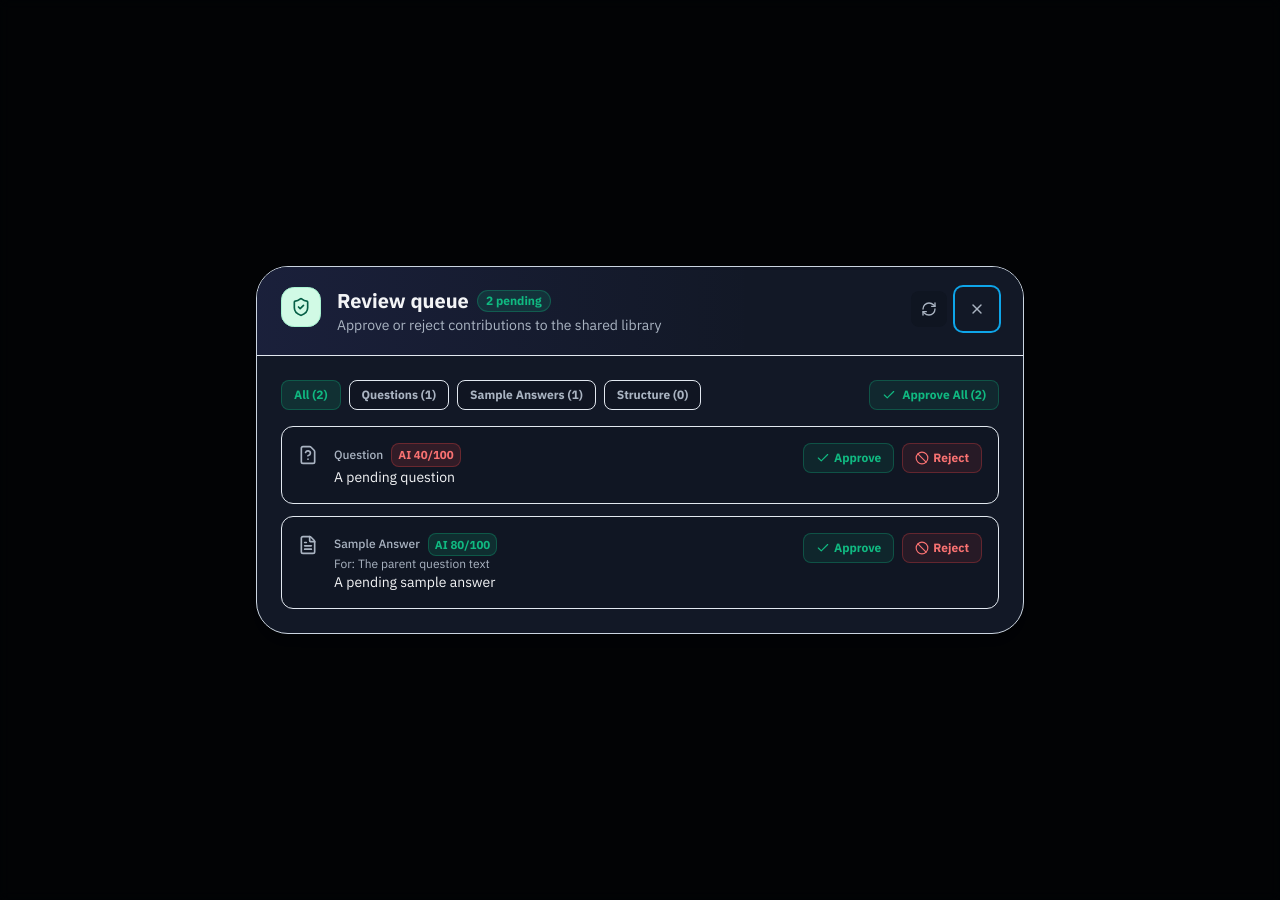
Scenario: ReviewQueueModal UX › filters the list by kind
Expected: the text "A pending question" is shown, x1=334 y1=468 x2=455 y2=486
Click the button "Questions (1)": {"x": 399, "y": 395} x1=348 y1=380 x2=449 y2=410
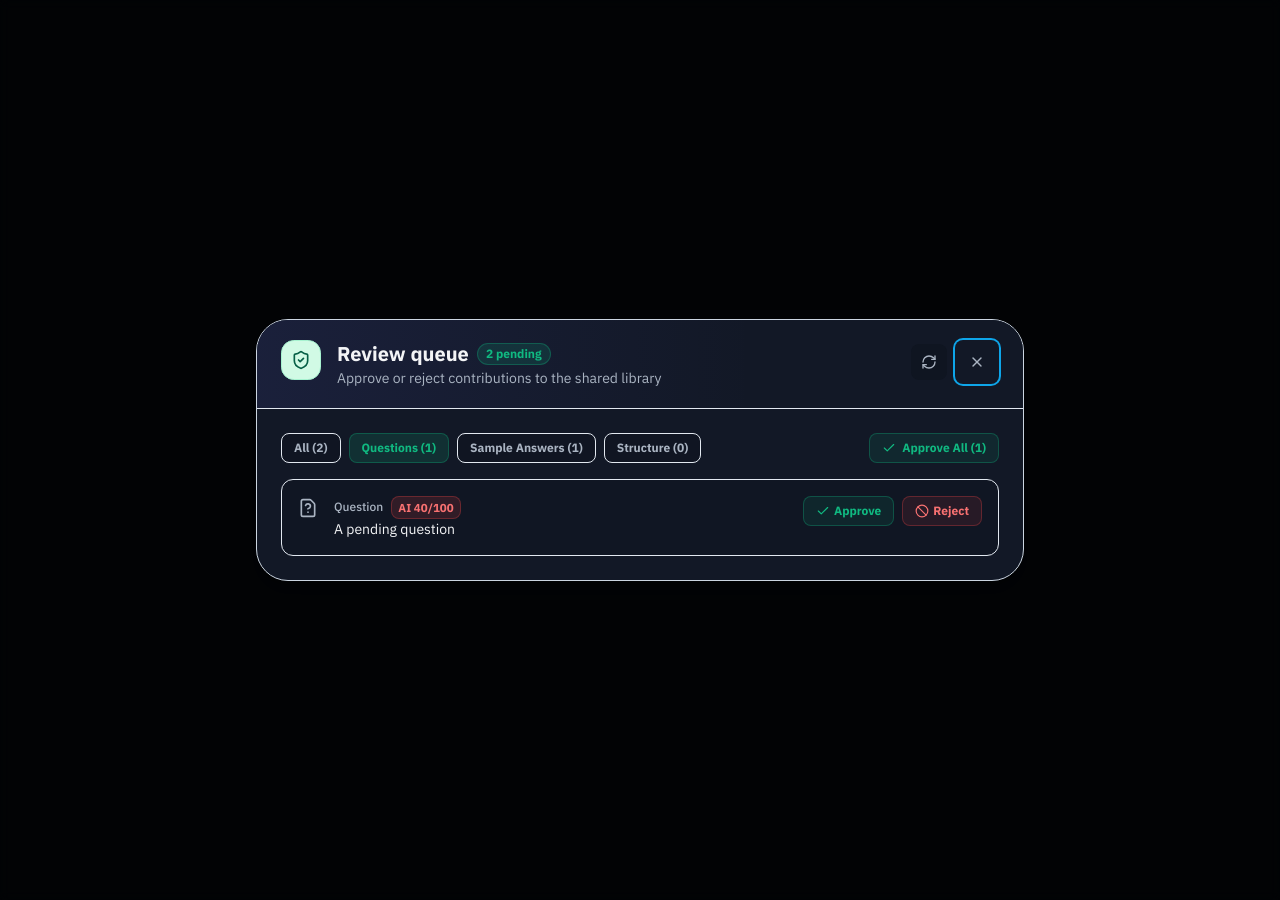
Expected: the text "A pending question" is shown, x1=334 y1=520 x2=455 y2=538
Now the text "A pending sample answer" is gone
Click the button "Sample Answers (1)": {"x": 526, "y": 448} x1=457 y1=433 x2=596 y2=463
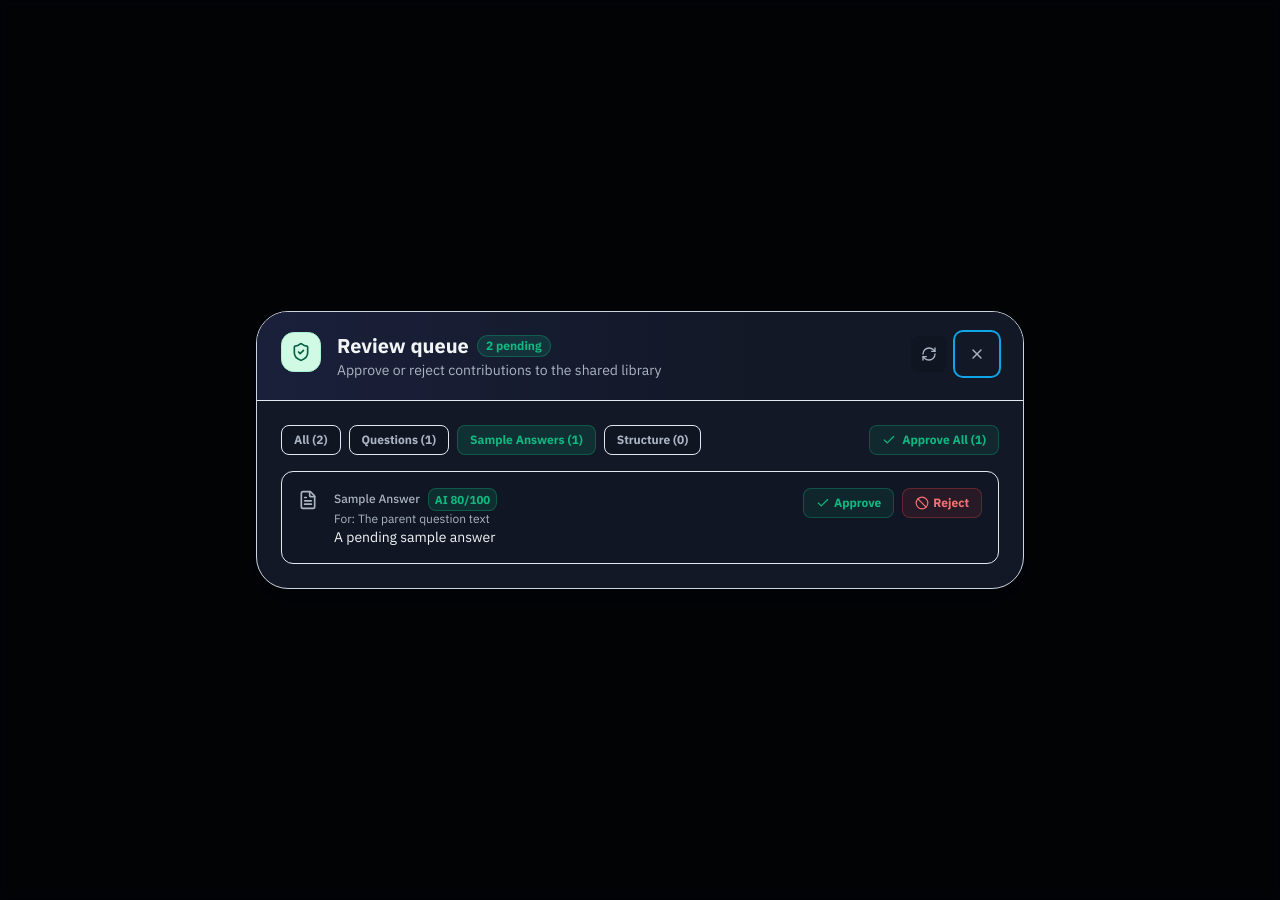
Now the text "A pending question" is gone
Now the text "A pending sample answer" is shown, box x1=334 y1=528 x2=495 y2=546
